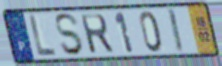0: (139, 10, 164, 54)
1: (115, 11, 136, 55)
I: (165, 8, 186, 55)
L: (28, 14, 58, 58)
R: (78, 12, 116, 55)
S: (54, 12, 86, 58)
